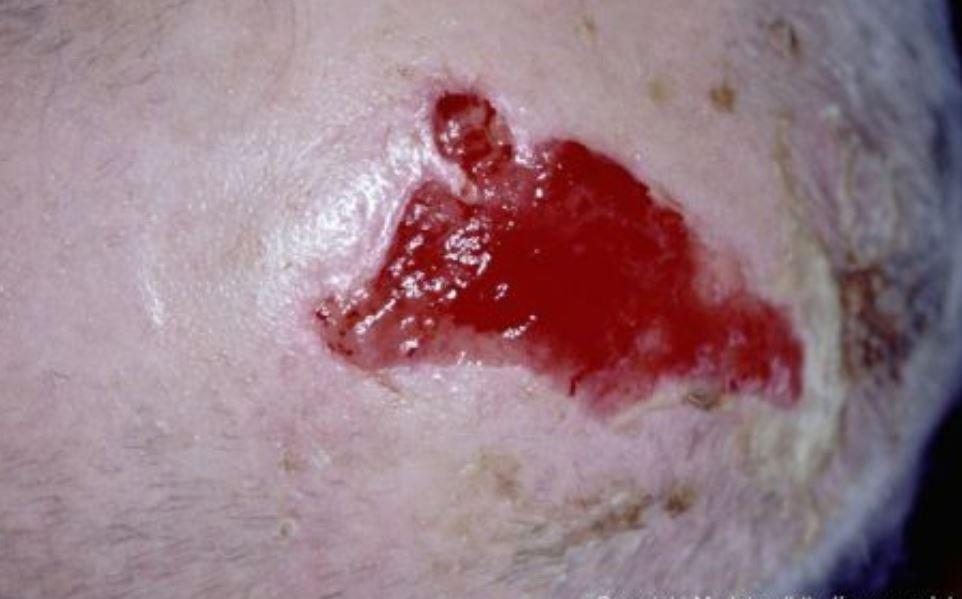NonPU: (320, 37, 857, 515)
